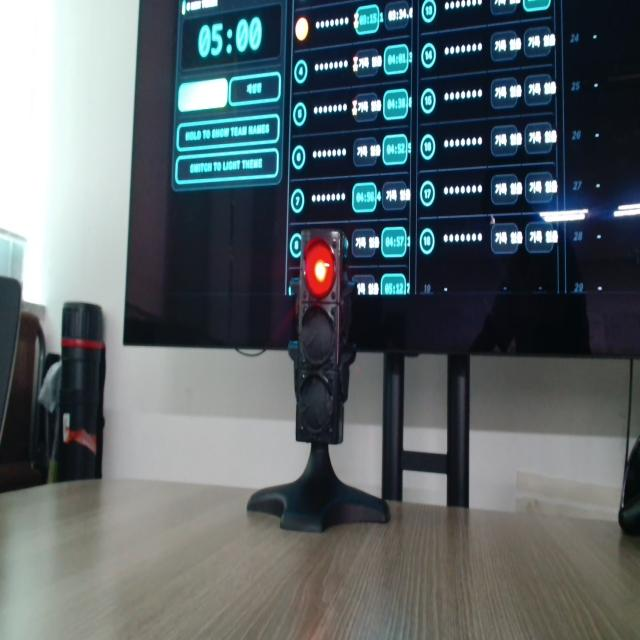red_light: (304, 239, 334, 298)
